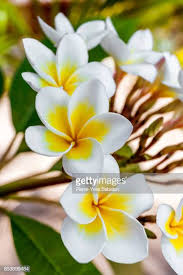frangipani: (27, 83, 135, 173)
